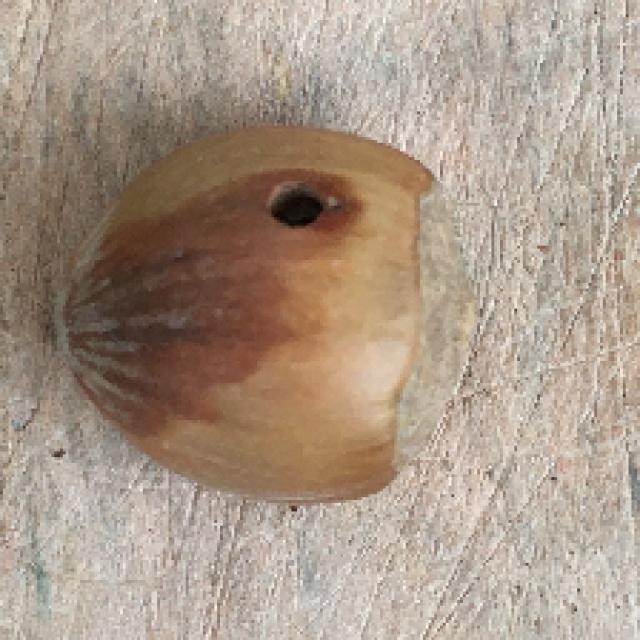damagedHazelnut: (50, 120, 480, 509)
